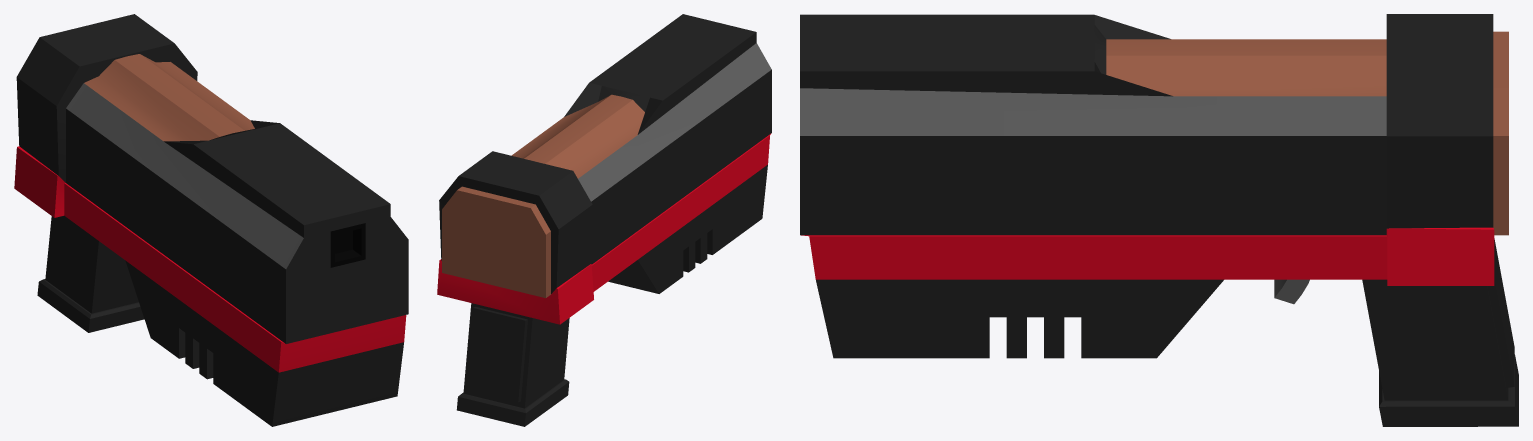
File: gun.fbx
3 renders of one model, left to right at view 1: azimuth 30°, elevation 25°; view 2: azimuth 150°, elevation 25°; view 3: azimuth 270°, elevation 25°, orthographic. The views are drawn at different scales.
Parts seen in each view (by area): view 1: Cube.001; view 2: Cube.001; view 3: Cube.001.
Boxes of the visible parts, x1,y1,x2,y2 form: Cube.001: (14, 14, 408, 426); Cube.001: (437, 14, 771, 426); Cube.001: (800, 14, 1518, 426).
Size of the model in its own units: 1.17 by 2.07 by 3.77.
